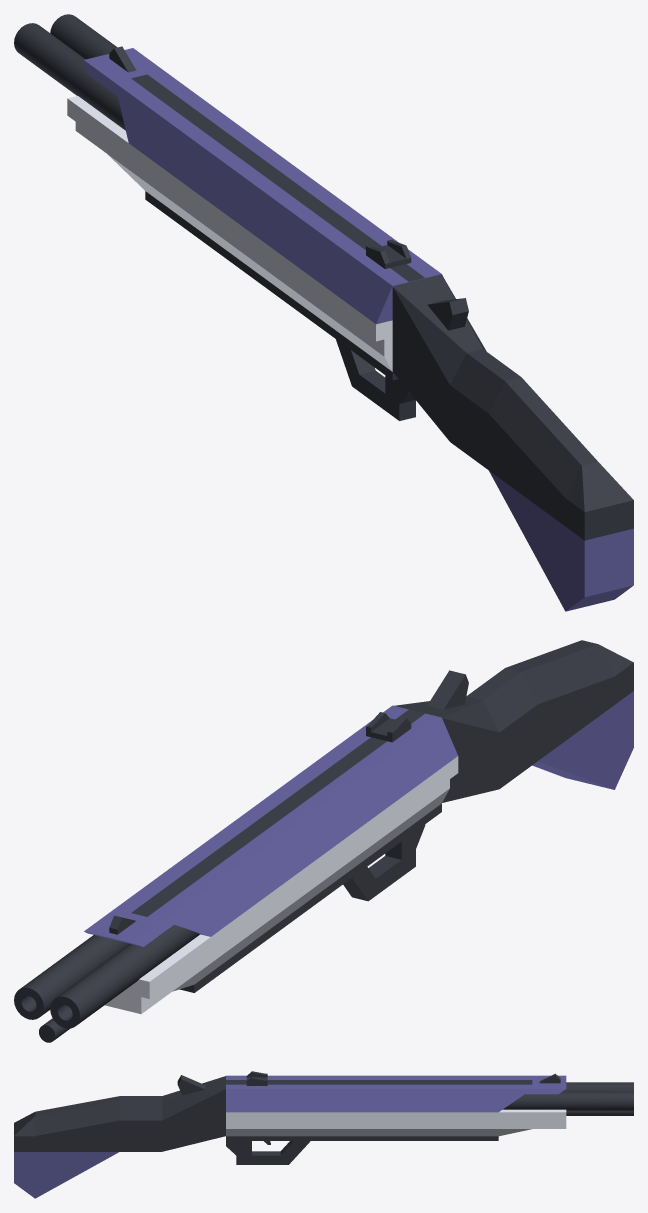
Rendered from shotgun_1.glb.
3 views of the same model, one above another, from view 1: azimuth 30°, elevation 25°; view 2: azimuth 150°, elevation 25°; view 3: azimuth 270°, elevation 25° (orthographic). The views are drawn at different scales.
Parts seen in each view (by area): view 1: stock_solid, largeBlaster_barrelDouble, largeBlaster_handleBolt, detailTargetSight; view 2: largeBlaster_barrelDouble, stock_solid, largeBlaster_handleBolt, detailTargetSight; view 3: largeBlaster_barrelDouble, stock_solid, largeBlaster_handleBolt, detailTargetSight.
Part boxes in pixels (x1,y1,x2,y2): stock_solid: (392, 274, 633, 611); largeBlaster_barrelDouble: (14, 14, 347, 311); largeBlaster_handleBolt: (281, 205, 443, 420); detailTargetSight: (366, 239, 411, 268); largeBlaster_barrelDouble: (14, 774, 364, 1042); stock_solid: (394, 640, 633, 802); largeBlaster_handleBolt: (299, 705, 458, 901); detailTargetSight: (366, 712, 411, 742); largeBlaster_barrelDouble: (329, 1075, 633, 1140); stock_solid: (14, 1075, 225, 1198); largeBlaster_handleBolt: (226, 1075, 330, 1164); detailTargetSight: (246, 1071, 267, 1085).
Bounding box in the file's own units: 0.5 × 1.24 × 5.93.
